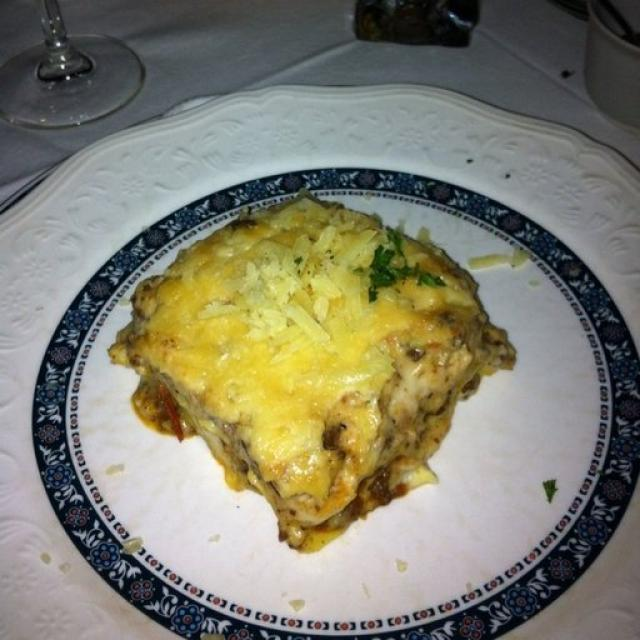Lasagna: (146, 191, 510, 560)
